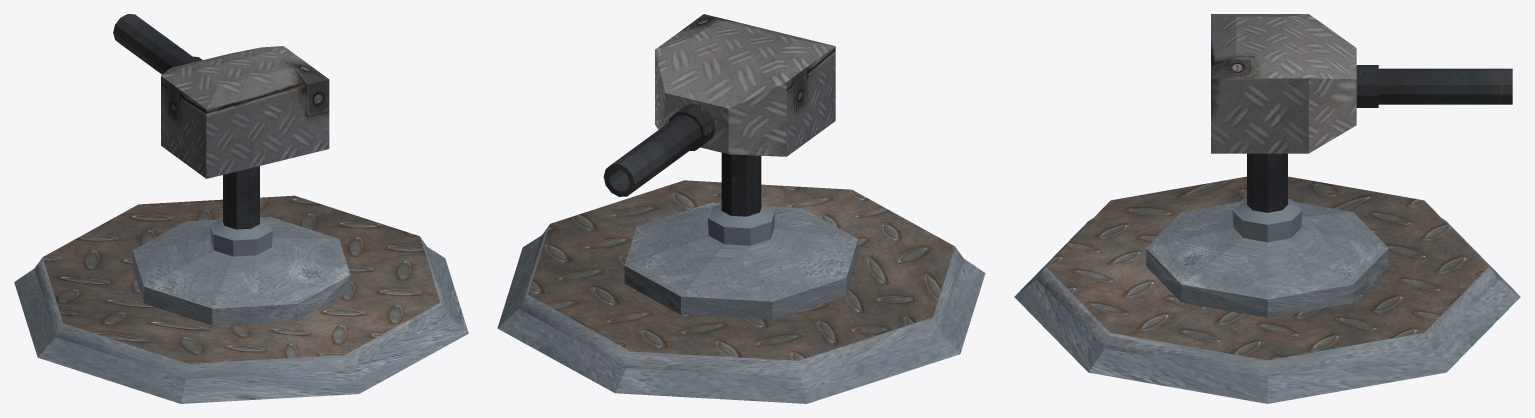
The model's file is Turrettexture.fbx.
3 views of the same model, side by side, from view 1: azimuth 30°, elevation 25°; view 2: azimuth 150°, elevation 25°; view 3: azimuth 270°, elevation 25° (orthographic). The views are drawn at different scales.
Visible parts, largest first — view 1: pCylinder1, pCube3; view 2: pCylinder1, pCube3; view 3: pCylinder1, pCube3.
Boxes of the visible parts, x1=… form: pCylinder1: x1=14, y1=195, x2=468, y2=403; pCube3: x1=113, y1=14, x2=329, y2=229; pCylinder1: x1=497, y1=180, x2=985, y2=403; pCube3: x1=603, y1=14, x2=835, y2=216; pCylinder1: x1=1014, y1=176, x2=1520, y2=403; pCube3: x1=1211, y1=14, x2=1512, y2=212.
Bounding box in the file's own units: 2.38 × 1.42 × 2.38.
Materials: 4 (4 with a texture image).
